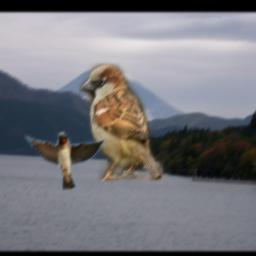Sparrow: (79, 64, 163, 181)
Swallow: (25, 132, 106, 190)
